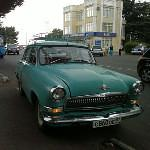bonnet-dent: (72, 61, 124, 84)
